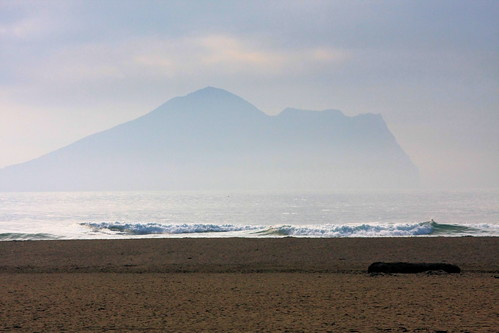turtleIsland: (1, 87, 416, 187)
